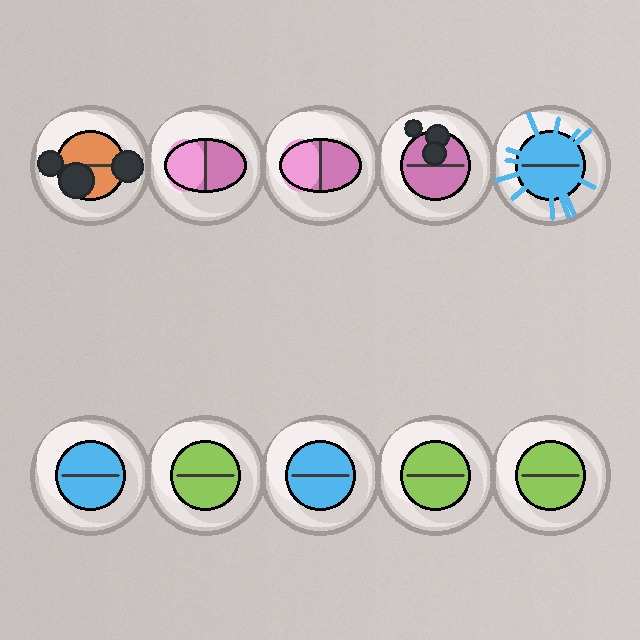flash: (488, 103, 612, 227)
stain: (28, 103, 152, 227), (373, 103, 497, 227)
